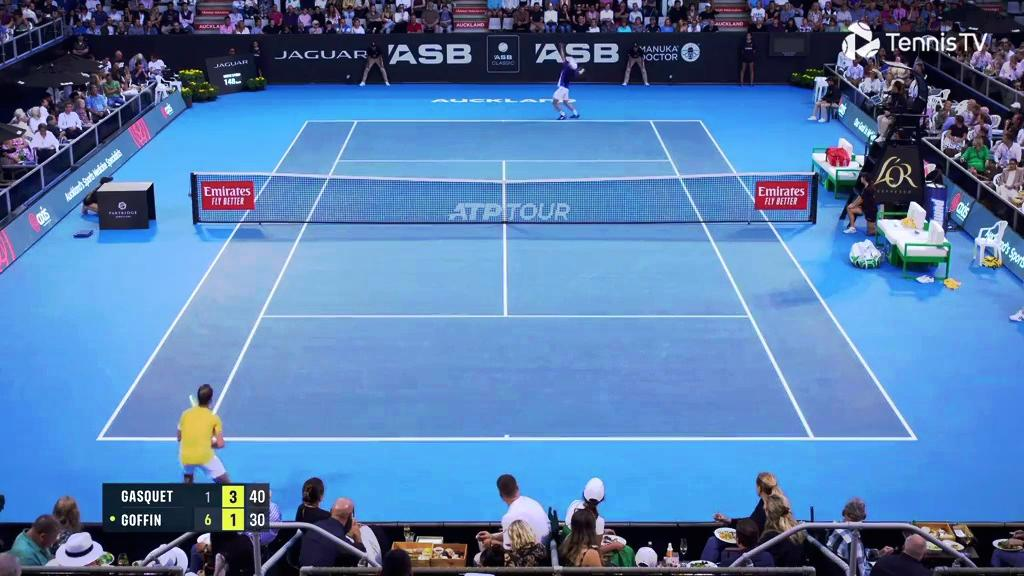tennis-court: (96, 120, 919, 440)
